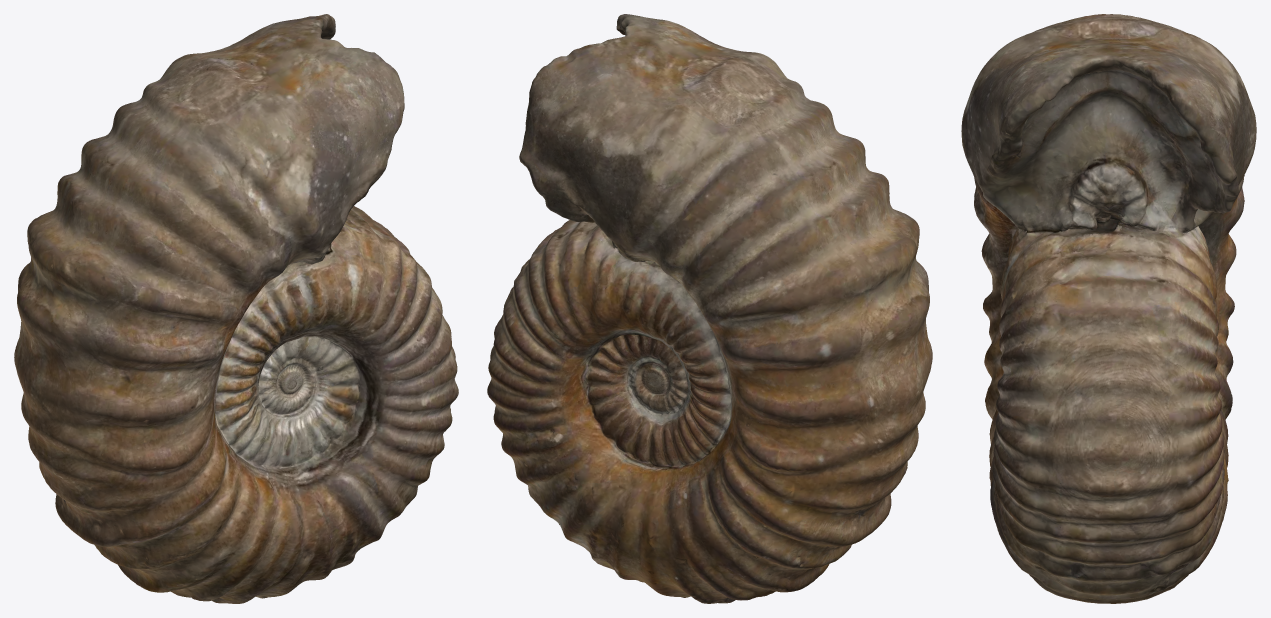
3 renders of one model, left to right at view 1: azimuth 30°, elevation 25°; view 2: azimuth 150°, elevation 25°; view 3: azimuth 270°, elevation 25°, orthographic. The views are drawn at different scales.
Visible parts, largest first — view 1: Mesh_0; view 2: Mesh_0; view 3: Mesh_0.
Part boxes in pixels (bbox=[...]): Mesh_0: bbox=[14, 14, 458, 603]; Mesh_0: bbox=[487, 14, 932, 603]; Mesh_0: bbox=[961, 14, 1256, 603].
Size of the model in its own units: 1.53 by 1.9 by 0.8992.
1 material, 1 textured.
